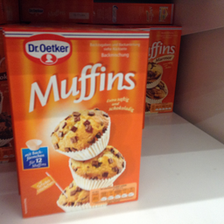cake: (3, 24, 153, 219)
